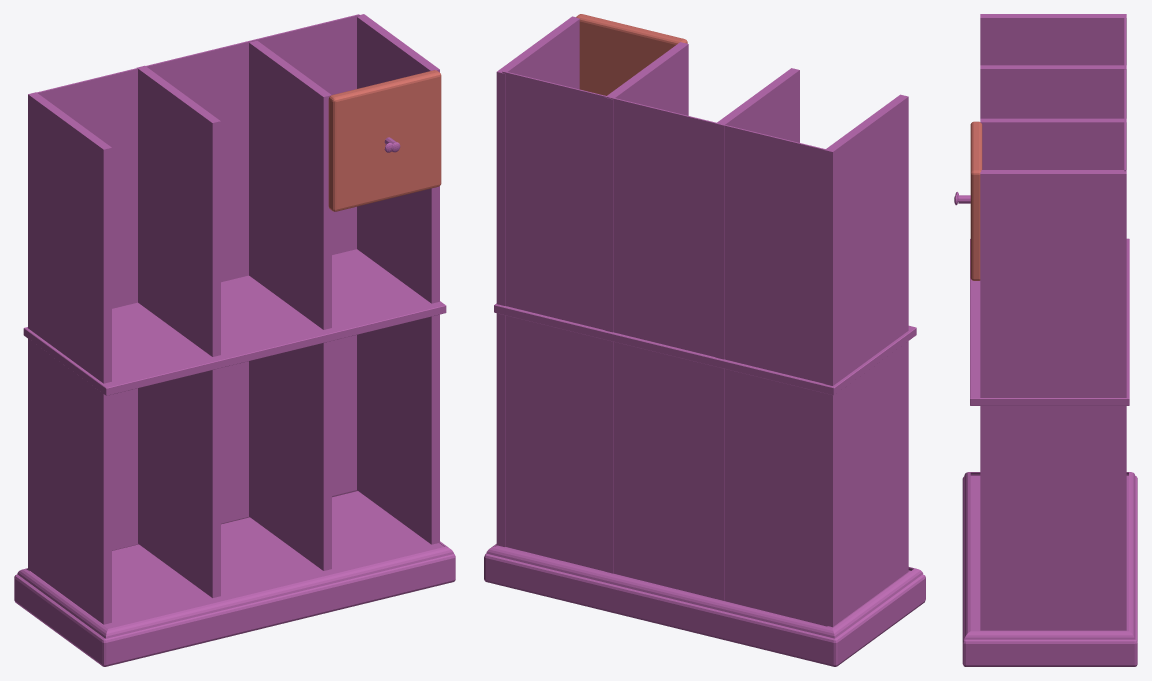
File: commode_sized.dae
3 renders of one model, left to right at view 1: azimuth 30°, elevation 25°; view 2: azimuth 150°, elevation 25°; view 3: azimuth 270°, elevation 25°, orthographic. The views are drawn at different scales.
Parts seen in each view (by area): view 1: Rectangle1, Rectangle0, ChamferB14, ChamferB11_ChamferB12_ChamferB13_ChamferB15, ChamferBox_ChamferBo0_ChamferBo1_ChamferBo2_ChamferBo3_Chamf, Loft05_Loft03_Loft06_Loft07_Loft04; view 2: Rectangle0, Rectangle1, ChamferB14, ChamferBox_ChamferBo0_ChamferBo1_ChamferBo2_ChamferBo3_Chamf, Loft05_Loft03_Loft06_Loft07_Loft04, ChamferB11_ChamferB12_ChamferB13_ChamferB15; view 3: Rectangle1, ChamferB14, Loft05_Loft03_Loft06_Loft07_Loft04, ChamferB11_ChamferB12_ChamferB13_ChamferB15, ChamferBox_ChamferBo0_ChamferBo1_ChamferBo2_ChamferBo3_Chamf, Rectangle0.
Boxes of the visible parts, x1=… form: Rectangle1: x1=28, y1=14, x2=439, y2=624; Rectangle0: x1=37, y1=14, x2=359, y2=550; ChamferB14: x1=14, y1=493, x2=455, y2=666; ChamferB11_ChamferB12_ChamferB13_ChamferB15: x1=23, y1=249, x2=446, y2=395; ChamferBox_ChamferBo0_ChamferBo1_ChamferBo2_ChamferBo3_Chamf: x1=328, y1=70, x2=441, y2=211; Loft05_Loft03_Loft06_Loft07_Loft04: x1=17, y1=490, x2=453, y2=638; Rectangle0: x1=502, y1=71, x2=827, y2=626; Rectangle1: x1=496, y1=16, x2=908, y2=627; ChamferB14: x1=484, y1=547, x2=925, y2=666; ChamferBox_ChamferBo0_ChamferBo1_ChamferBo2_ChamferBo3_Chamf: x1=576, y1=14, x2=687, y2=95; Loft05_Loft03_Loft06_Loft07_Loft04: x1=486, y1=544, x2=923, y2=638; ChamferB11_ChamferB12_ChamferB13_ChamferB15: x1=494, y1=303, x2=916, y2=395; Rectangle1: x1=980, y1=14, x2=1126, y2=630; ChamferB14: x1=962, y1=476, x2=1137, y2=666; Loft05_Loft03_Loft06_Loft07_Loft04: x1=964, y1=472, x2=1135, y2=639; ChamferB11_ChamferB12_ChamferB13_ChamferB15: x1=970, y1=238, x2=1129, y2=405; ChamferBox_ChamferBo0_ChamferBo1_ChamferBo2_ChamferBo3_Chamf: x1=970, y1=121, x2=982, y2=280; Rectangle0: x1=1124, y1=18, x2=1125, y2=171.
Bounding box in the file's own units: 1.69 × 0.7897 × 2.34.
